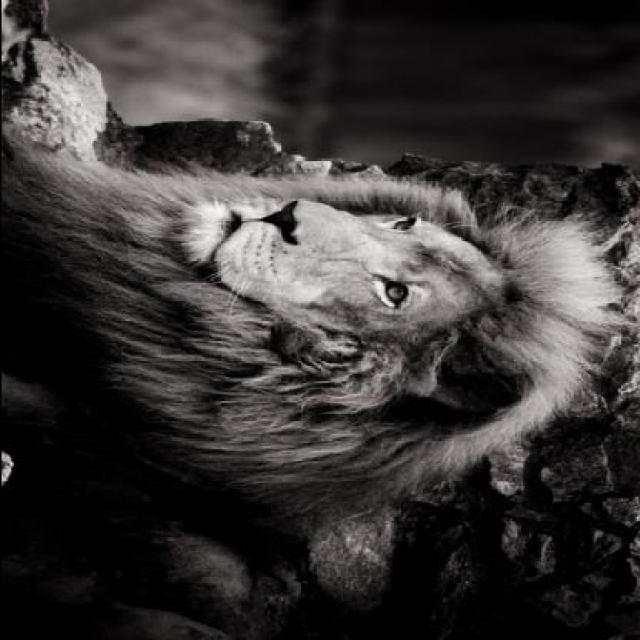Lion: (1, 87, 638, 638)
